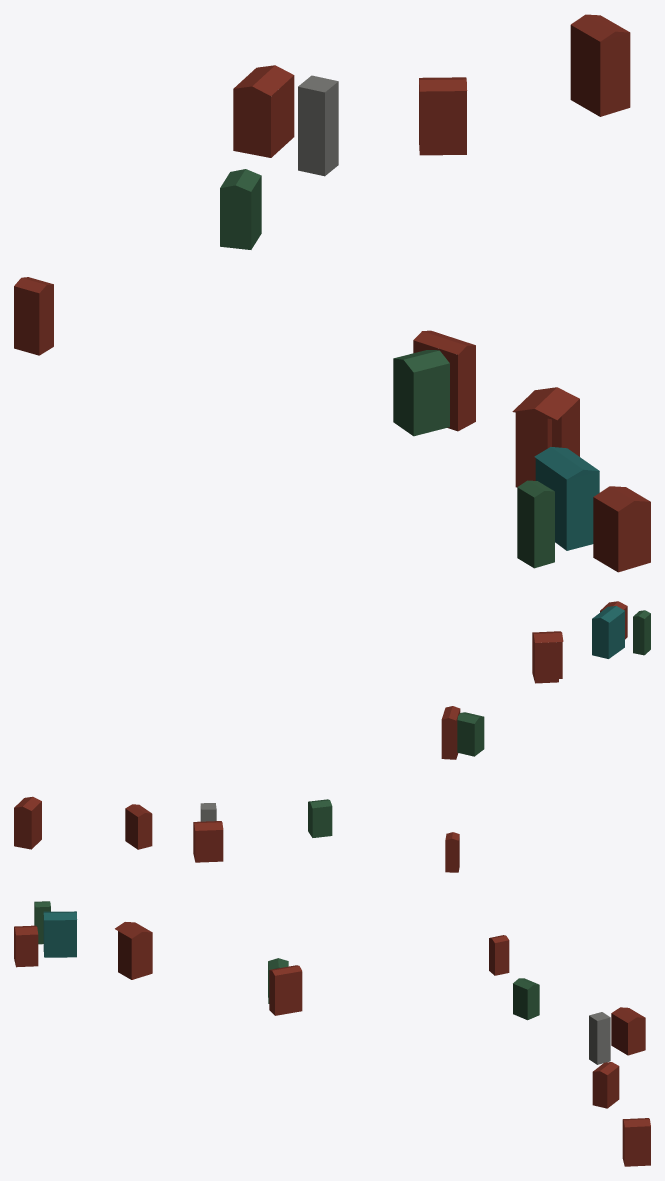
File: near-15-27356-14860.ba905b5a.glb
The picture shows the model from 3 angles, top to bottom: view 1: azimuth 30°, elevation 25°; view 2: azimuth 150°, elevation 25°; view 3: azimuth 270°, elevation 25°; orthographic projection. The views are drawn at different scales.
Bounding box in the file's own units: 209 × 52.01 × 300.
